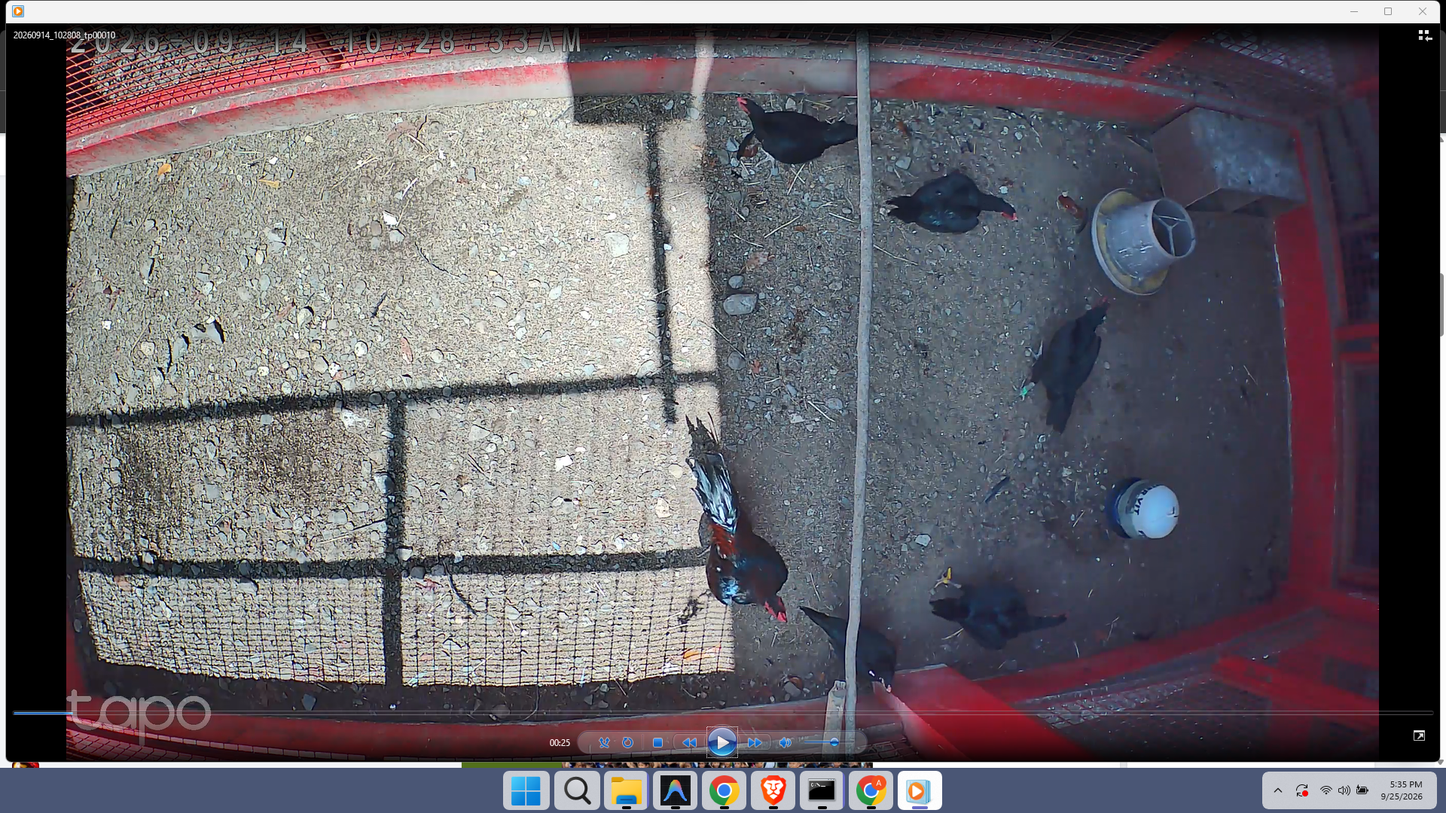Chicken: (1011, 287, 1112, 438), (923, 567, 1072, 652), (731, 94, 872, 171), (798, 603, 900, 694), (882, 168, 1021, 234)
Drinker: (1102, 478, 1180, 542)
Feeder: (1091, 186, 1199, 298)
Rooster: (693, 444, 797, 625)
